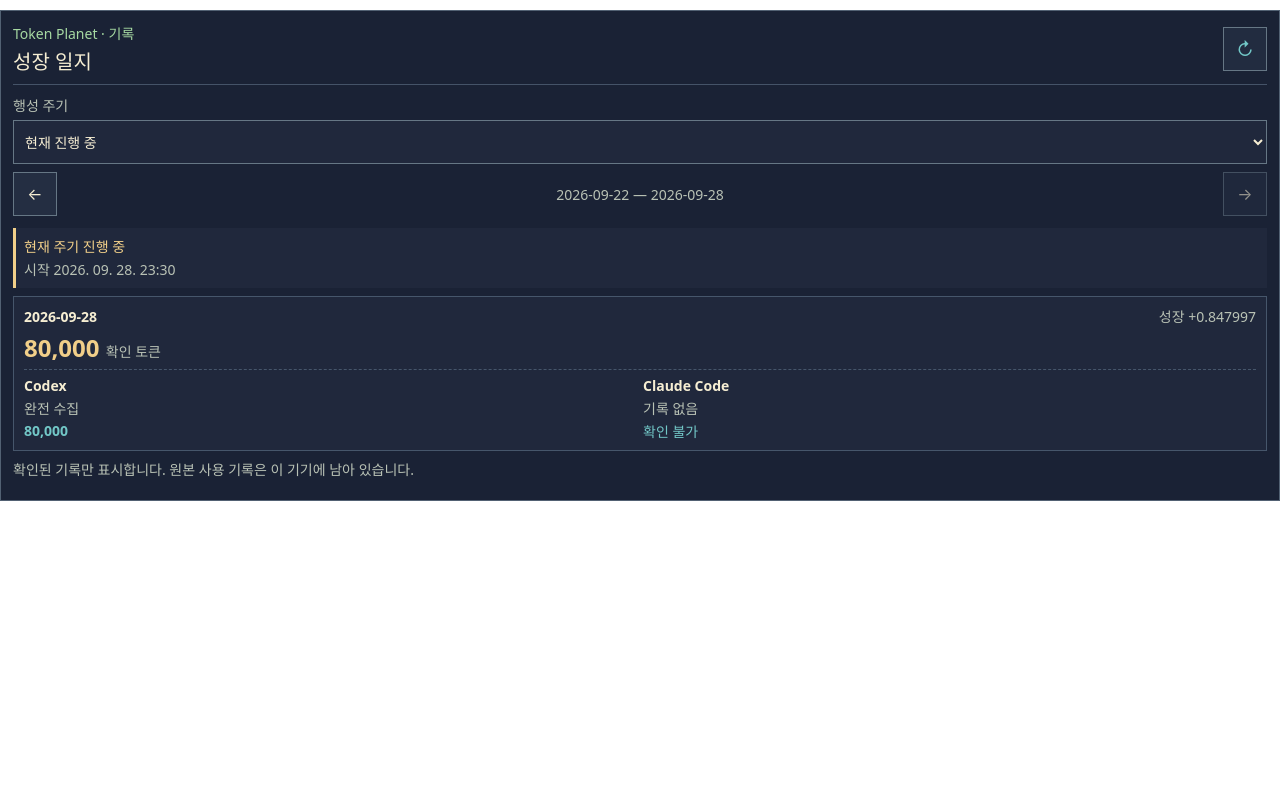
Test case: growth journal › keeps records from either side of a reset in their own cycle
Expected: the element with class "growth-journal-total" shows "80", [24,331,52,364]
Select "주기 1 · 초기화 2026-09-28" in the dropdown labelled "행성 주기" at [640, 142], box [13,120,1267,164]
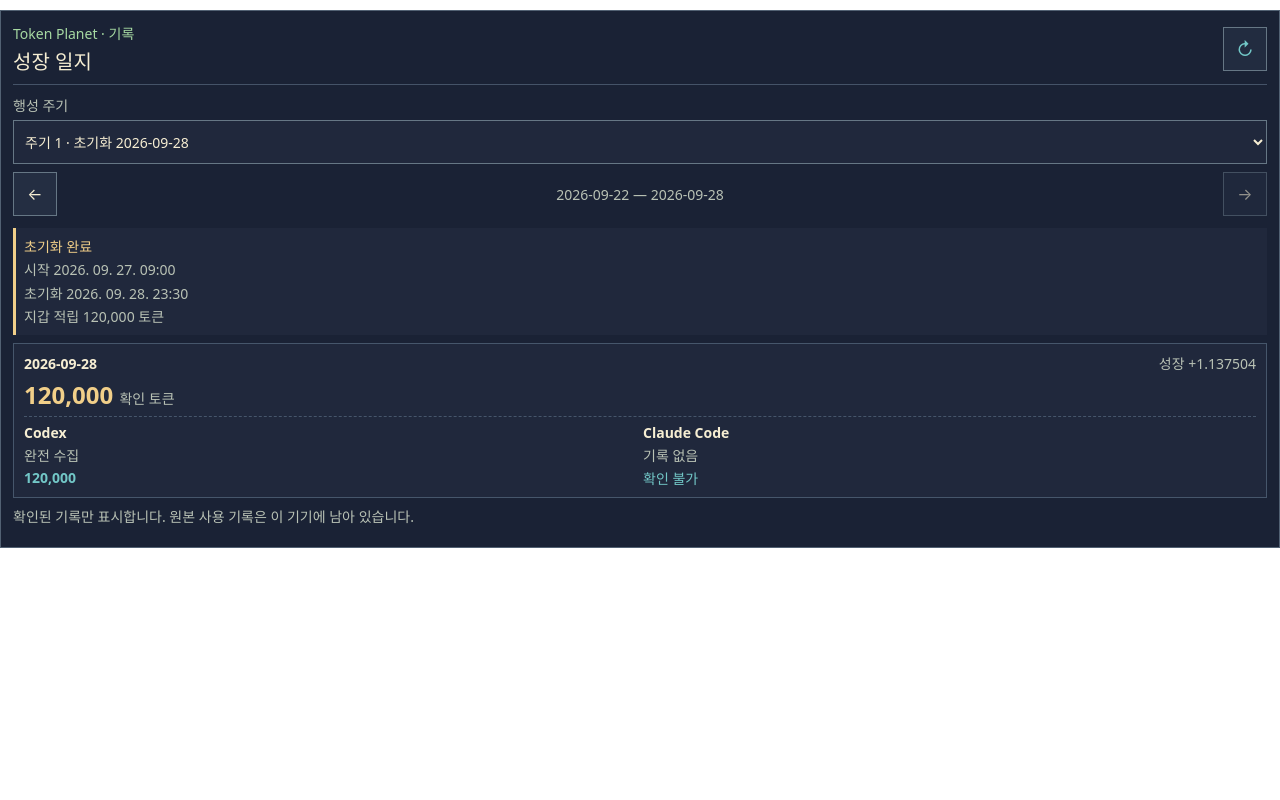
Expected: the element with class "growth-journal-cycle-note" shows "2026. 09. 28.", [66,284,188,303]
Now the element with class "growth-journal-total" shows "120,000", box [24,378,175,411]
Now the text "지갑 적립 120,000 토큰" is shown, box [24,307,164,326]
